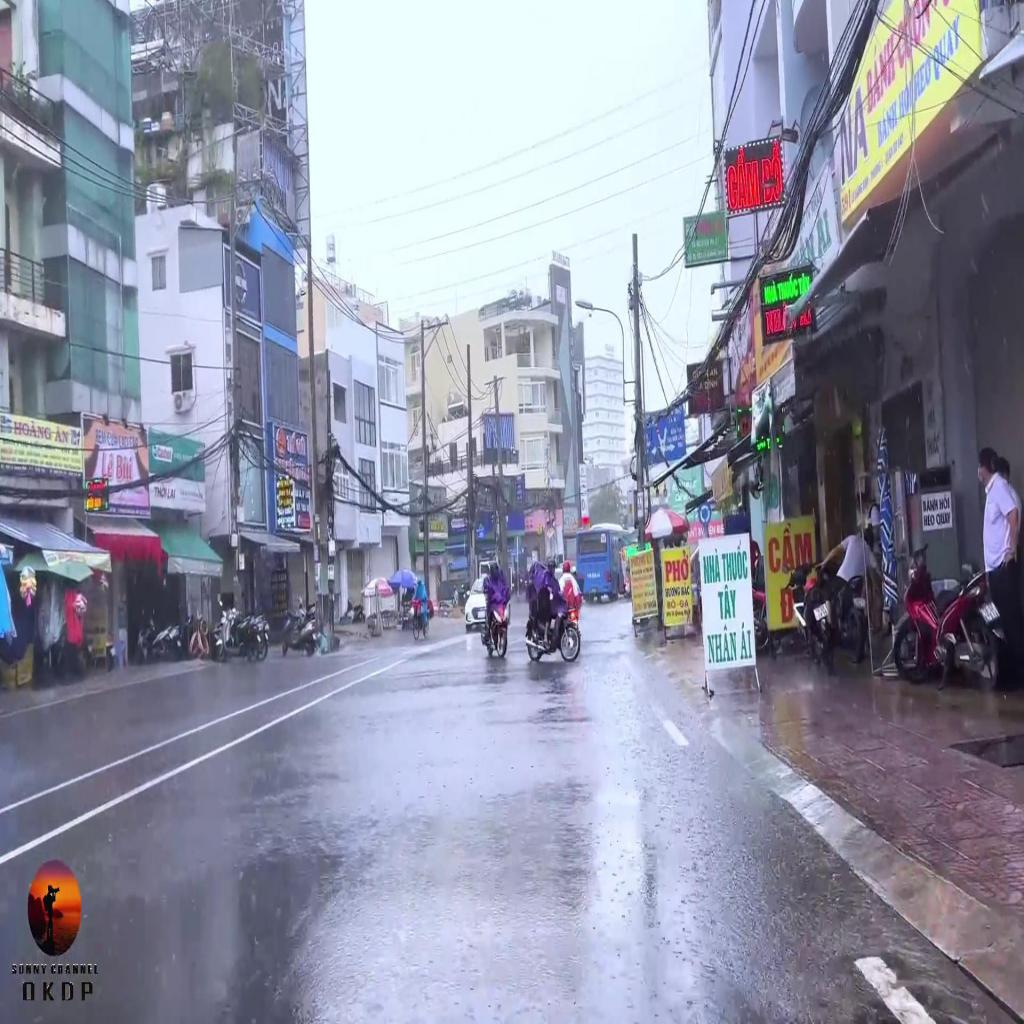khac: (644, 405, 687, 466)
noi_giao_nhau_chay_theo_vong: (698, 502, 712, 524)
